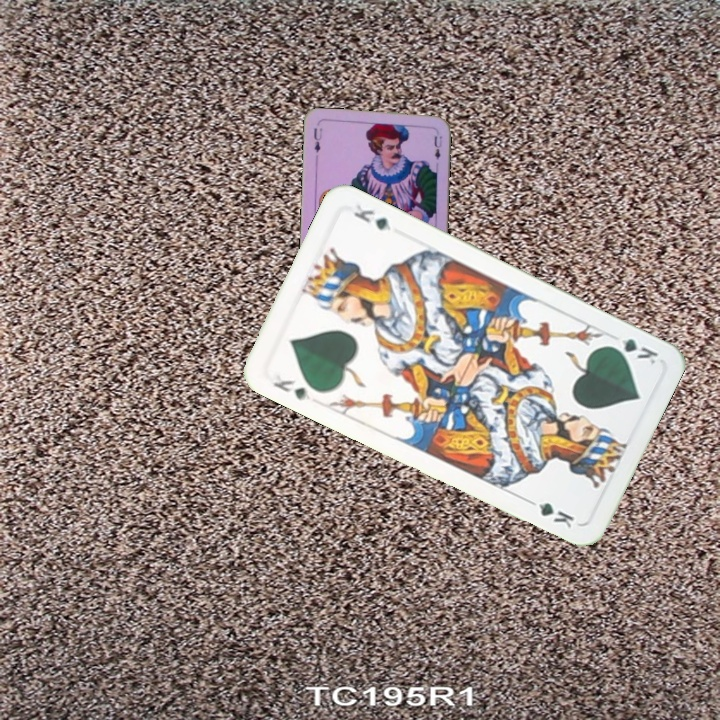EU: (310, 124, 325, 155)
GK: (604, 330, 661, 367), (269, 375, 313, 403)
